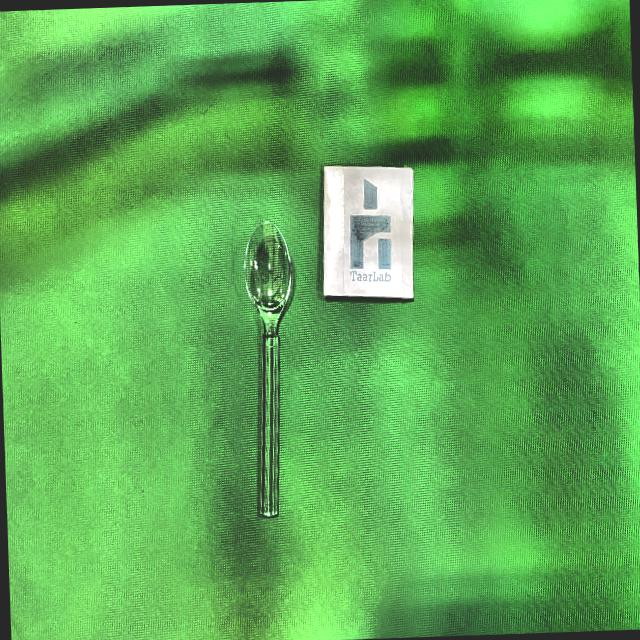plastic utensil: (243, 219, 294, 516)
